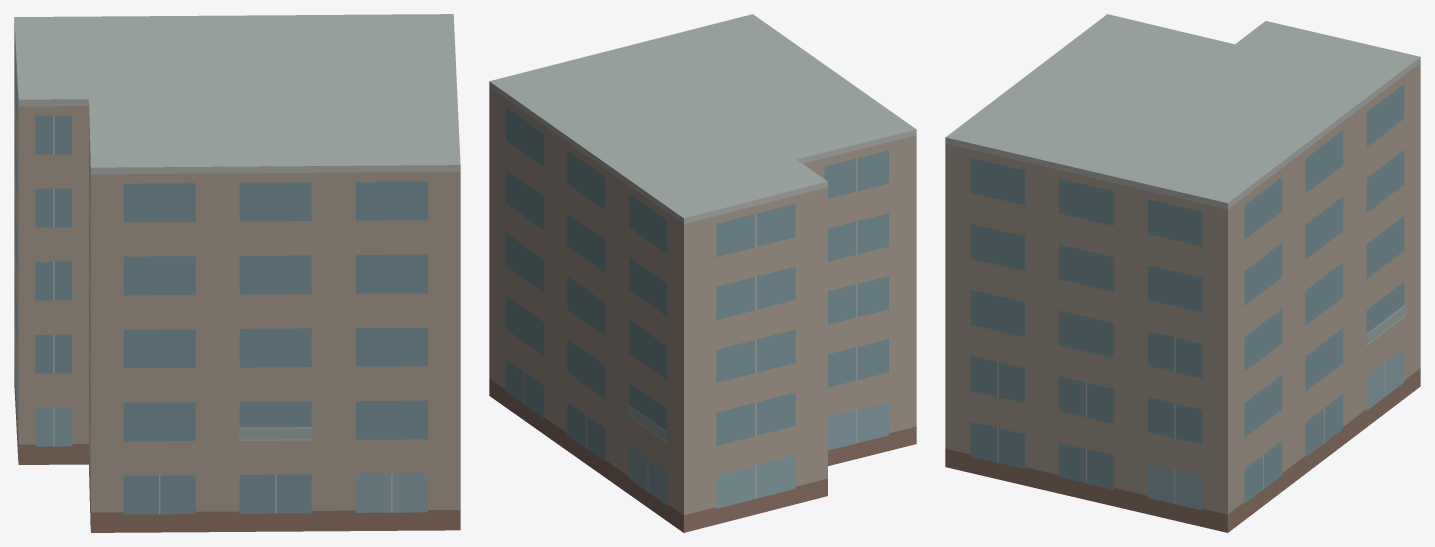
File: survey-upis-32870636.glb
The picture shows the model from 3 angles, left to right: view 1: azimuth 30°, elevation 25°; view 2: azimuth 150°, elevation 25°; view 3: azimuth 270°, elevation 25°; orthographic projection. The views are drawn at different scales.
Parts seen in each view (by area): view 1: survey-upis-32870636.tmp; view 2: survey-upis-32870636.tmp; view 3: survey-upis-32870636.tmp.
Part boxes in pixels (box(x1,y1,x2,y2)): survey-upis-32870636.tmp: box(14, 14, 460, 532); survey-upis-32870636.tmp: box(489, 14, 916, 532); survey-upis-32870636.tmp: box(945, 14, 1420, 532).
Size of the model in its own units: 16.25 by 13.2 by 17.25.
